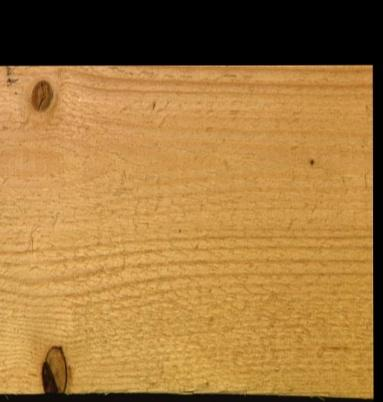small_knot: (276, 154, 324, 202)
sound_knot: (29, 78, 54, 113)
